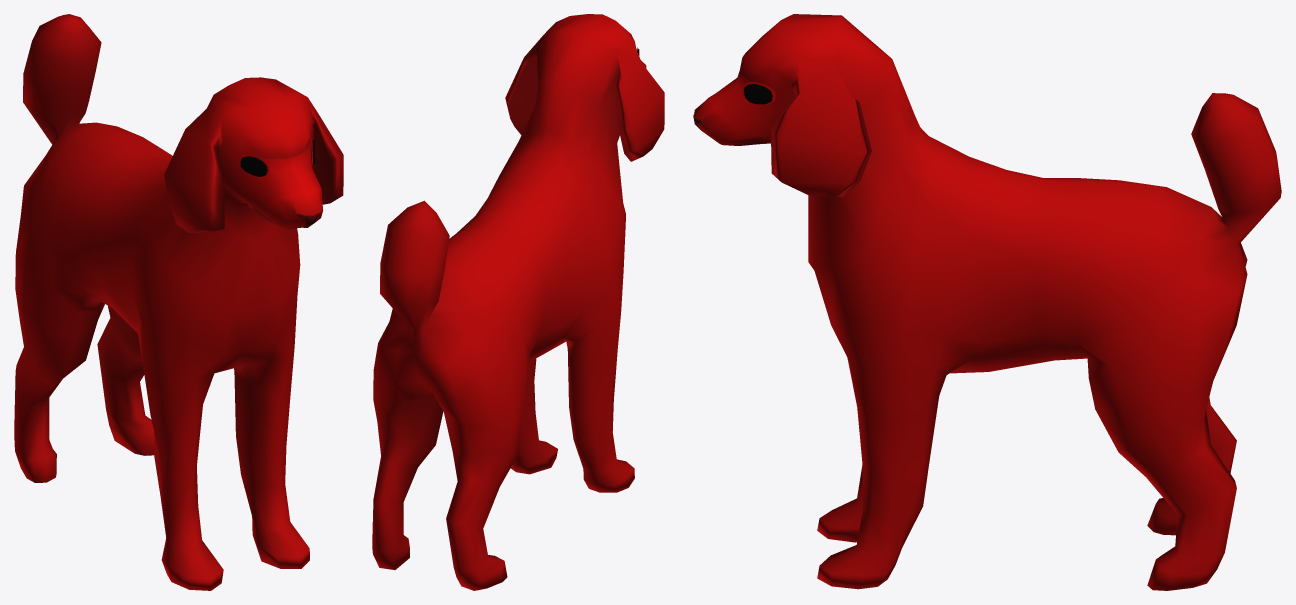
The model's file is Animals_Poodle.fbx.
3 renders of one model, left to right at view 1: azimuth 30°, elevation 25°; view 2: azimuth 150°, elevation 25°; view 3: azimuth 270°, elevation 25°, orthographic. The views are drawn at different scales.
Visible parts, largest first — view 1: base; view 2: base; view 3: base.
Part boxes in pixels (<box>): base: <box>14,14,343,590</box>; base: <box>372,14,664,590</box>; base: <box>693,14,1281,590</box>.
Bounding box in the file's own units: 27.83 × 86.76 × 86.68.
